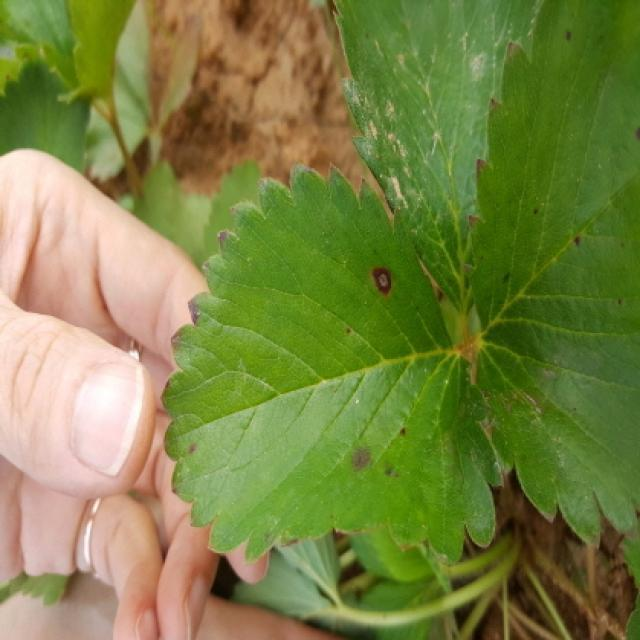Leaf Spot: (159, 160, 506, 563), (460, 0, 638, 551)
